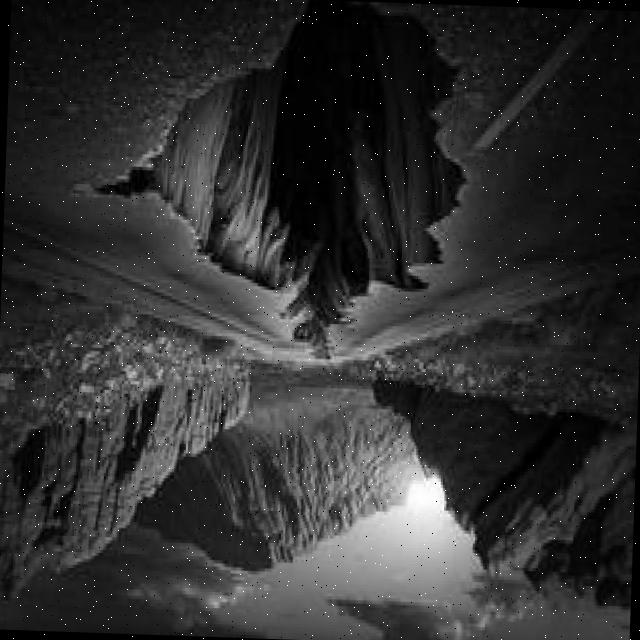road collapse: (58, 0, 567, 437)
